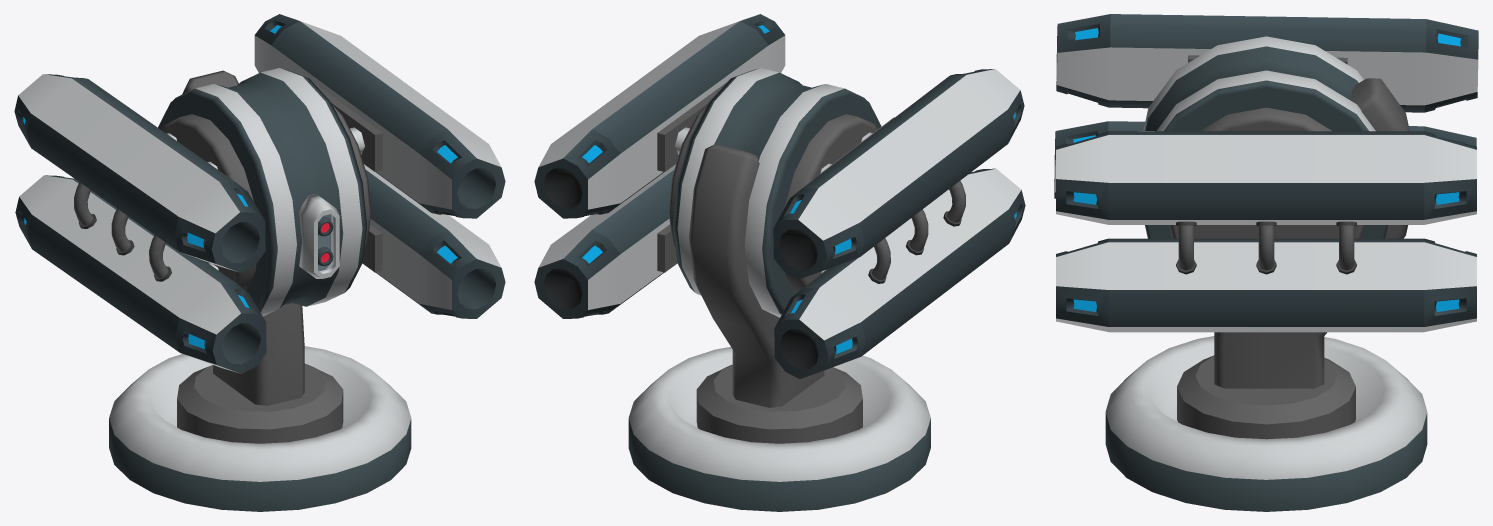
Rendered from Turret_007.glb.
3 renders of one model, left to right at view 1: azimuth 30°, elevation 25°; view 2: azimuth 150°, elevation 25°; view 3: azimuth 270°, elevation 25°, orthographic. The views are drawn at different scales.
Visible parts, largest first — view 1: Turret_007_barrel_001, Turret_007, Turret_007_barrel_002, Turret_007_body_001; view 2: Turret_007, Turret_007_barrel_001, Turret_007_barrel_002, Turret_007_body_001; view 3: Turret_007_barrel_002, Turret_007, Turret_007_barrel_001, Turret_007_body_001.
Part boxes in pixels (bbox=[...]): Turret_007_barrel_001: bbox=[14, 74, 266, 373]; Turret_007: bbox=[109, 70, 411, 511]; Turret_007_barrel_002: bbox=[254, 14, 505, 318]; Turret_007_body_001: bbox=[158, 68, 366, 316]; Turret_007: bbox=[628, 144, 930, 511]; Turret_007_barrel_001: bbox=[773, 69, 1025, 378]; Turret_007_barrel_002: bbox=[534, 14, 785, 318]; Turret_007_body_001: bbox=[673, 68, 881, 317]; Turret_007_barrel_002: bbox=[1056, 107, 1476, 332]; Turret_007: bbox=[1105, 78, 1427, 511]; Turret_007_barrel_001: bbox=[1054, 14, 1478, 198]; Turret_007_body_001: bbox=[1138, 36, 1387, 238].
Bounding box in the file's own units: 1.12 × 1.21 × 1.21.
Materials: 2 (2 with a texture image).
